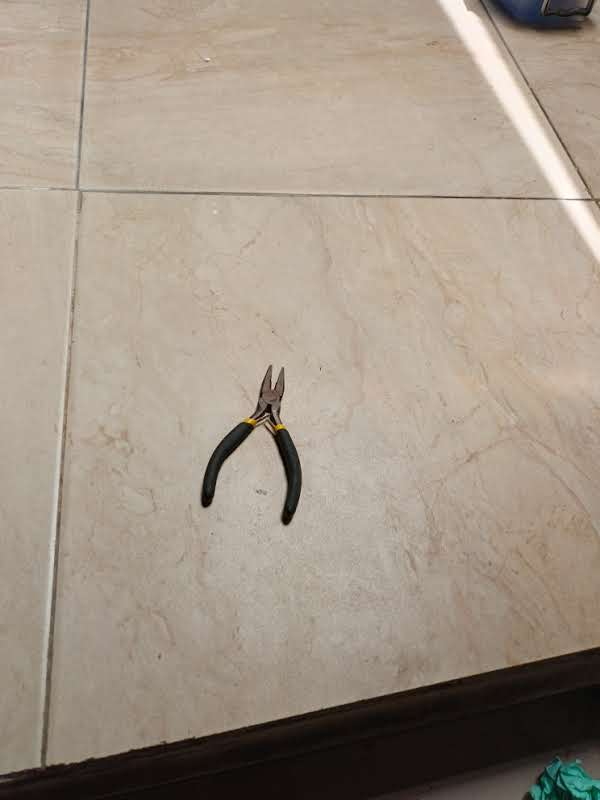Pinzas: (201, 364, 302, 525)
